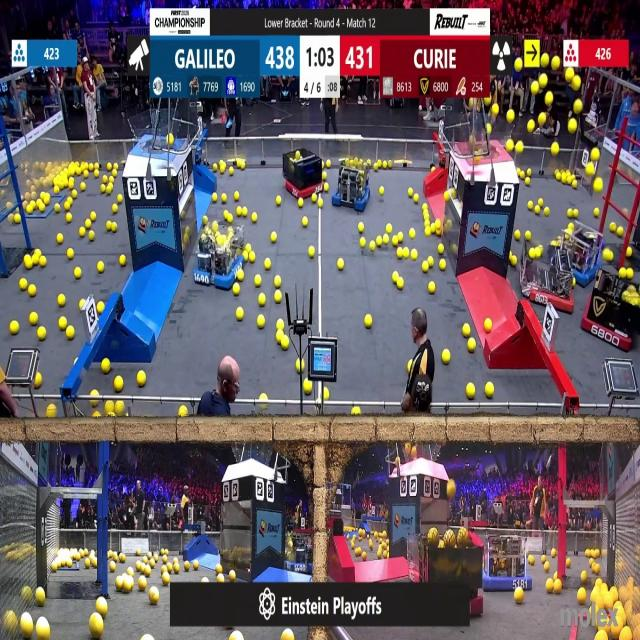ball_airborne: (22, 616, 35, 640), (36, 619, 50, 640), (448, 481, 456, 498), (568, 118, 577, 133), (538, 74, 547, 88), (594, 178, 603, 192), (573, 100, 581, 114), (540, 55, 548, 69), (552, 58, 561, 70), (544, 93, 552, 106), (588, 164, 596, 177), (531, 81, 539, 94), (552, 142, 560, 155), (516, 59, 524, 72), (572, 76, 580, 89), (565, 68, 573, 81), (538, 113, 546, 125), (506, 140, 514, 152), (592, 148, 600, 160), (506, 110, 514, 122), (516, 141, 524, 153), (604, 250, 612, 262), (528, 119, 535, 131), (492, 104, 499, 115), (412, 447, 418, 458), (470, 97, 475, 108), (169, 136, 174, 146), (487, 125, 492, 135), (485, 98, 491, 106)
ball_ground: (91, 616, 104, 638), (97, 598, 108, 615), (36, 589, 45, 607), (149, 588, 158, 605), (576, 589, 585, 605), (9, 321, 18, 335), (138, 372, 146, 387), (114, 377, 122, 392), (444, 349, 452, 364), (516, 589, 524, 604), (114, 403, 123, 416), (106, 400, 115, 413), (122, 581, 131, 594), (304, 380, 312, 394), (102, 358, 110, 372), (466, 384, 474, 398), (486, 383, 494, 397), (281, 337, 289, 351), (282, 630, 293, 640), (46, 407, 55, 419), (30, 313, 38, 326), (545, 581, 553, 594), (555, 581, 562, 595), (74, 268, 82, 280), (178, 407, 186, 419), (139, 576, 147, 588), (38, 326, 45, 339), (237, 308, 244, 321), (26, 258, 33, 271), (18, 279, 26, 290), (257, 316, 264, 328), (258, 293, 265, 305), (462, 324, 469, 336), (164, 572, 171, 584), (60, 318, 67, 330), (36, 374, 42, 388), (67, 326, 74, 338), (364, 315, 371, 327), (29, 284, 36, 296), (428, 282, 435, 294), (579, 570, 586, 582), (592, 564, 600, 574), (468, 340, 474, 353), (486, 319, 492, 332), (116, 579, 122, 592), (98, 263, 105, 274), (275, 277, 282, 288), (98, 303, 105, 314), (396, 279, 403, 290), (307, 245, 314, 256), (173, 563, 180, 574), (230, 570, 237, 581), (60, 294, 66, 306), (119, 254, 125, 266), (68, 248, 74, 260), (276, 290, 282, 302), (339, 260, 345, 272), (277, 333, 283, 345), (524, 232, 532, 241), (535, 246, 541, 258), (234, 284, 241, 294), (238, 272, 245, 282), (277, 320, 284, 330), (65, 202, 72, 212), (383, 236, 390, 246), (627, 269, 634, 279), (118, 554, 125, 564), (41, 192, 48, 202), (412, 249, 418, 260), (266, 260, 272, 271), (271, 233, 277, 244), (323, 388, 329, 399), (40, 256, 46, 267), (441, 261, 447, 272), (295, 360, 301, 371), (392, 236, 398, 247), (529, 248, 535, 259), (91, 212, 98, 221), (386, 223, 392, 233), (58, 234, 64, 244), (249, 252, 255, 262), (254, 276, 260, 286), (303, 216, 309, 226), (90, 232, 96, 242), (402, 248, 408, 258), (79, 229, 85, 239), (516, 232, 522, 242), (369, 241, 375, 251), (422, 264, 428, 274), (512, 255, 518, 265), (440, 245, 446, 255), (377, 237, 383, 247), (192, 560, 198, 570), (396, 248, 402, 258), (428, 256, 434, 266), (609, 222, 615, 232), (397, 234, 403, 244), (221, 192, 227, 202), (145, 566, 151, 576), (110, 562, 116, 572), (621, 269, 627, 279), (68, 178, 74, 188), (136, 562, 142, 572), (556, 172, 562, 182), (217, 574, 224, 582), (352, 410, 360, 417), (259, 393, 266, 401), (552, 240, 559, 248), (572, 210, 579, 218), (596, 633, 604, 640), (34, 249, 41, 257), (627, 248, 633, 257), (212, 192, 218, 201), (107, 184, 113, 193), (106, 221, 112, 230), (312, 193, 318, 202), (216, 564, 222, 573), (128, 567, 134, 576), (237, 208, 243, 217), (242, 208, 248, 217), (56, 204, 62, 213), (618, 229, 624, 238), (226, 214, 232, 223), (13, 214, 19, 223), (414, 193, 420, 202), (317, 200, 323, 209), (95, 170, 101, 179), (39, 204, 45, 213), (596, 576, 602, 585), (78, 301, 84, 310), (84, 560, 90, 569), (452, 245, 458, 254), (240, 162, 246, 171), (595, 208, 600, 218), (411, 230, 416, 240), (392, 273, 397, 283), (358, 222, 363, 232), (184, 562, 189, 572), (430, 222, 435, 232), (93, 558, 98, 568), (297, 200, 303, 208), (445, 191, 451, 199), (537, 200, 543, 208), (534, 207, 540, 215), (100, 184, 106, 192), (93, 398, 99, 406), (87, 220, 93, 228), (566, 560, 572, 568), (219, 166, 225, 174), (28, 206, 34, 214), (246, 244, 252, 252), (163, 564, 169, 572), (519, 171, 525, 179), (586, 550, 592, 558), (67, 213, 72, 222), (252, 213, 257, 222), (112, 204, 117, 213), (528, 202, 533, 211), (567, 209, 572, 218), (72, 189, 77, 198), (529, 556, 534, 565), (213, 163, 218, 172), (568, 222, 573, 231), (424, 212, 429, 221), (524, 178, 530, 185), (93, 389, 99, 396), (227, 168, 233, 175), (94, 413, 100, 420), (112, 164, 118, 171), (540, 556, 546, 563), (277, 198, 282, 206), (380, 186, 385, 194), (80, 182, 85, 190), (119, 196, 124, 204), (543, 208, 548, 216), (544, 562, 548, 572), (322, 172, 327, 180), (527, 170, 532, 178), (356, 548, 360, 558), (361, 553, 366, 561), (385, 159, 390, 167), (436, 226, 440, 236), (378, 552, 383, 560), (90, 164, 95, 172), (108, 552, 113, 560), (360, 239, 364, 248), (426, 229, 430, 238), (223, 210, 227, 219), (572, 180, 576, 189), (203, 576, 208, 583), (83, 171, 88, 178), (552, 551, 557, 558), (107, 165, 112, 172), (423, 204, 428, 211), (326, 162, 331, 169), (150, 561, 155, 568), (56, 186, 61, 193), (324, 183, 328, 191), (236, 191, 240, 199), (112, 222, 116, 230), (112, 170, 116, 178), (104, 175, 108, 183), (204, 215, 208, 223), (164, 556, 168, 564), (409, 188, 413, 195), (555, 571, 559, 578), (373, 163, 377, 170)
goal: (461, 119, 514, 160), (128, 116, 186, 152)
robot_blue: (192, 221, 246, 290), (482, 536, 532, 594), (566, 224, 603, 286), (334, 156, 371, 212), (284, 530, 314, 572)
robot_red: (408, 529, 482, 619), (582, 277, 638, 351), (524, 256, 576, 314), (282, 150, 321, 198)
